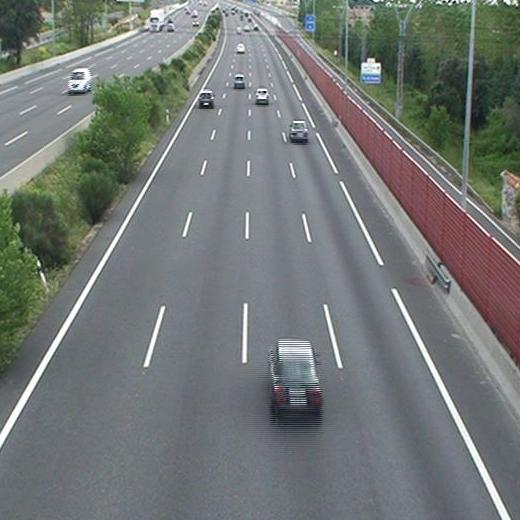car: (268, 340, 319, 413), (289, 121, 308, 140), (255, 89, 269, 104), (199, 92, 214, 106), (233, 75, 244, 88), (236, 42, 245, 53)
